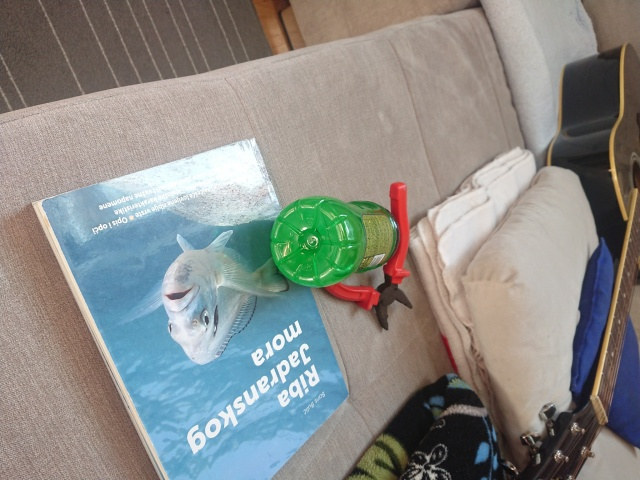Vindi Iso Sport Lemon-Grapefruit 500mL: (267, 193, 409, 291)
